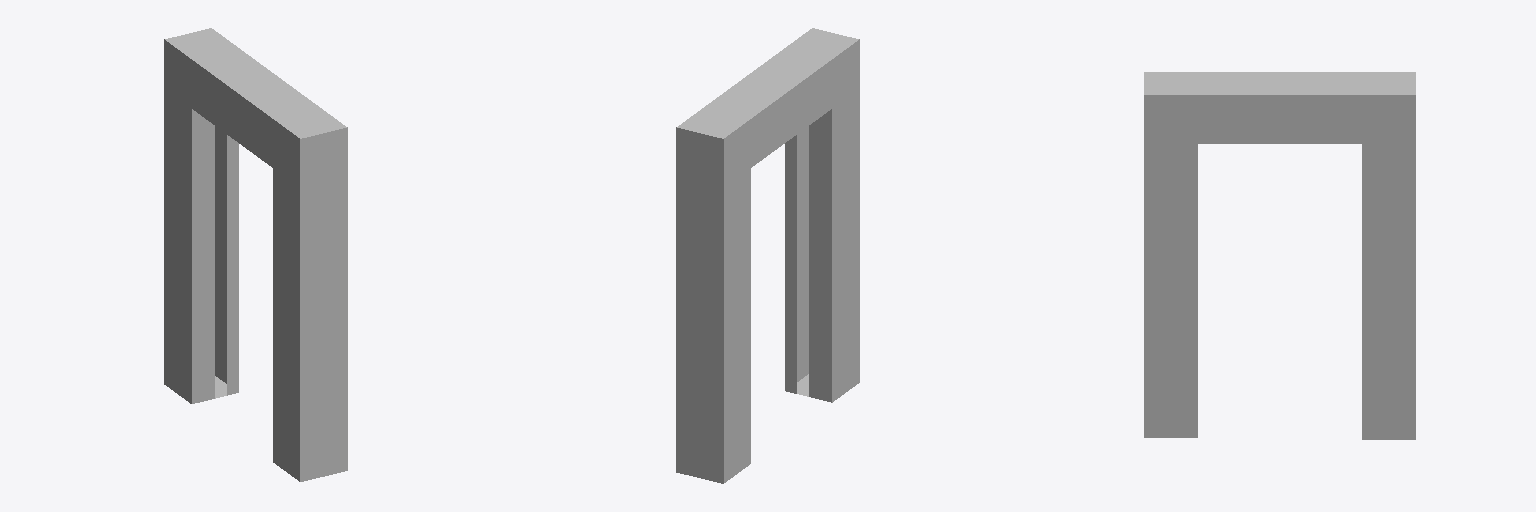
Rendered from Frame.obj.
3 views of the same model, side by side, from view 1: azimuth 30°, elevation 25°; view 2: azimuth 150°, elevation 25°; view 3: azimuth 270°, elevation 25° (orthographic).
Visible parts, largest first — view 1: Cube_Cube.001; view 2: Cube_Cube.001; view 3: Cube_Cube.001.
Part boxes in pixels (left/top/right/bottom): Cube_Cube.001: left=164, top=28, right=347, bottom=481; Cube_Cube.001: left=676, top=28, right=859, bottom=483; Cube_Cube.001: left=1144, top=72, right=1415, bottom=439.
Bounding box in the file's own units: 5 × 35 × 25.